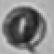correct: (0, 0, 49, 51)
